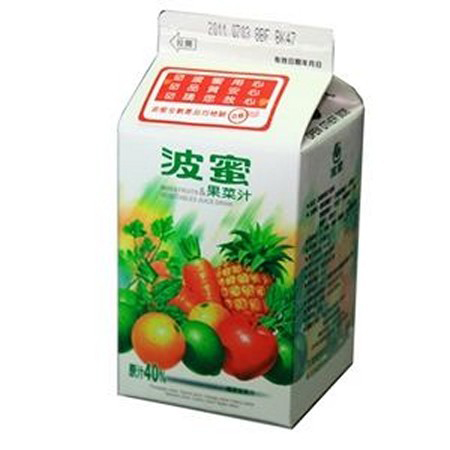vegetables juice: (100, 76, 307, 441)
